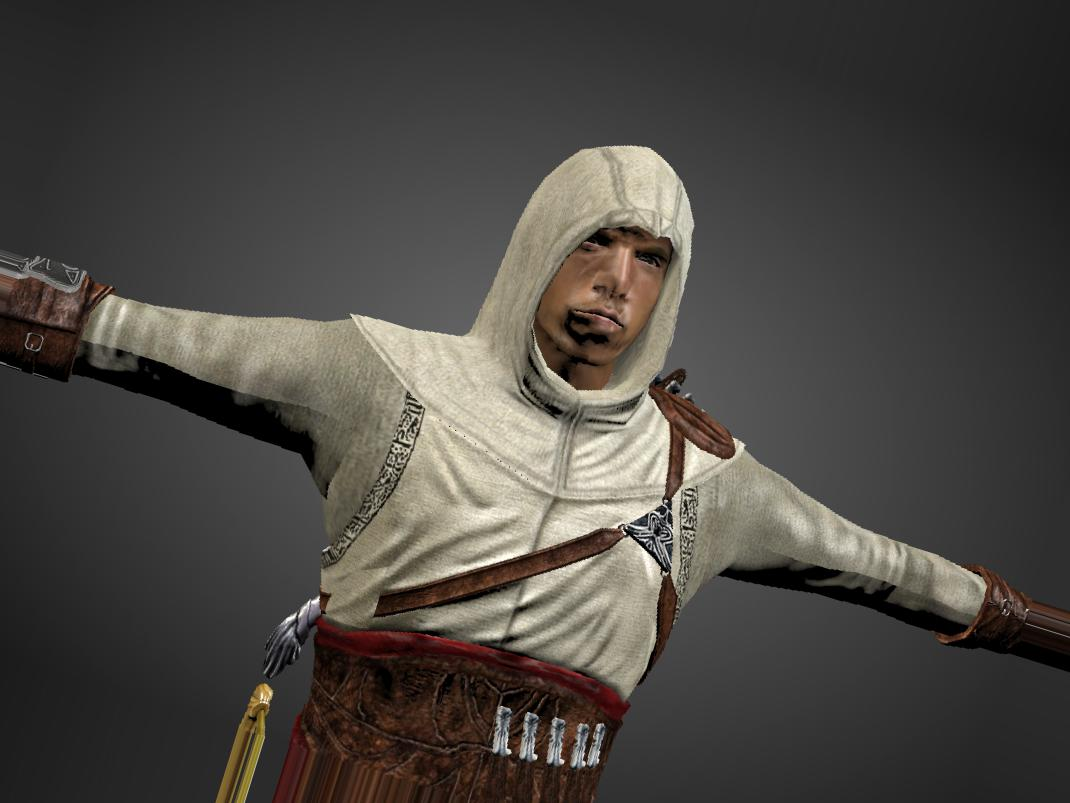clip: (327, 573, 385, 624)
